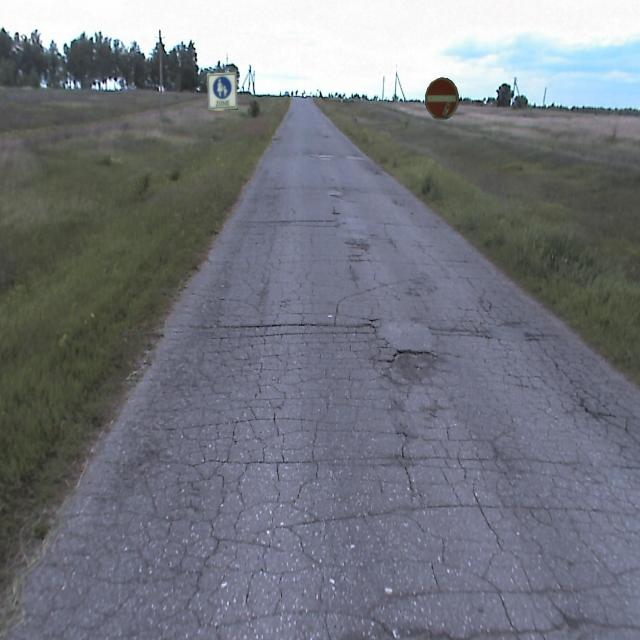road: (6, 99, 639, 639)
